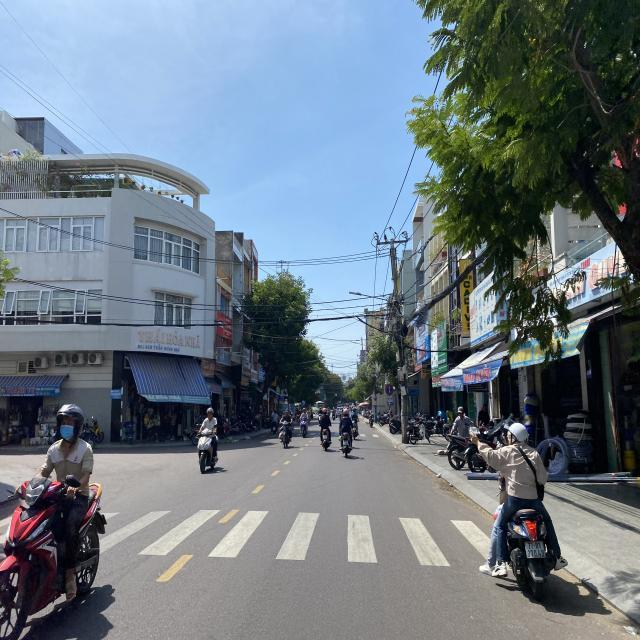walk-crossing: (106, 508, 492, 571)
